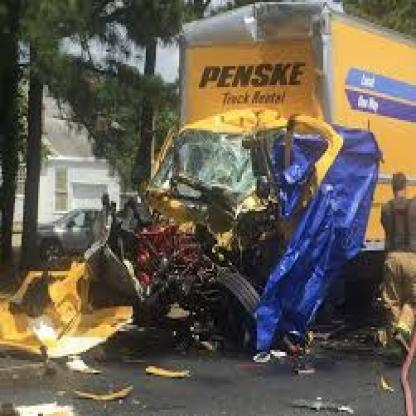accident: (5, 20, 385, 380)
